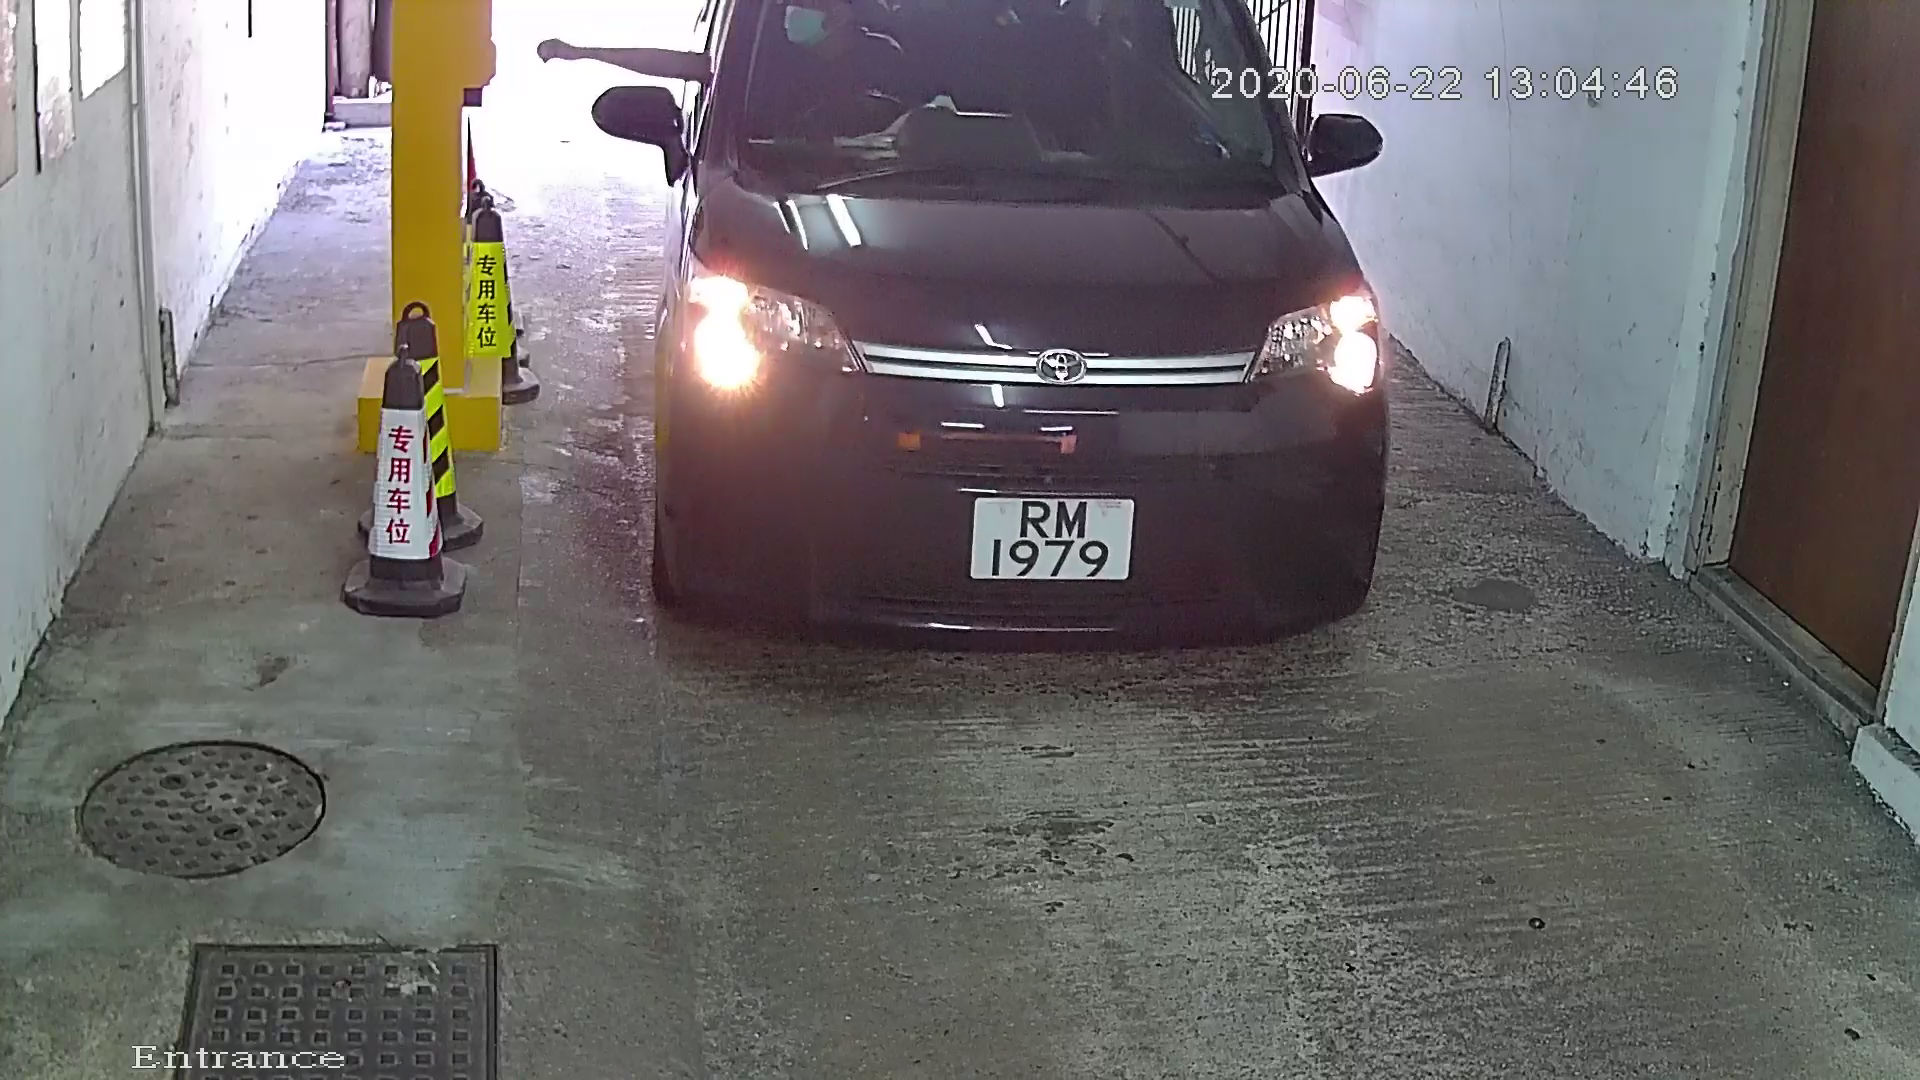privatecar: (560, 1, 1451, 669)
